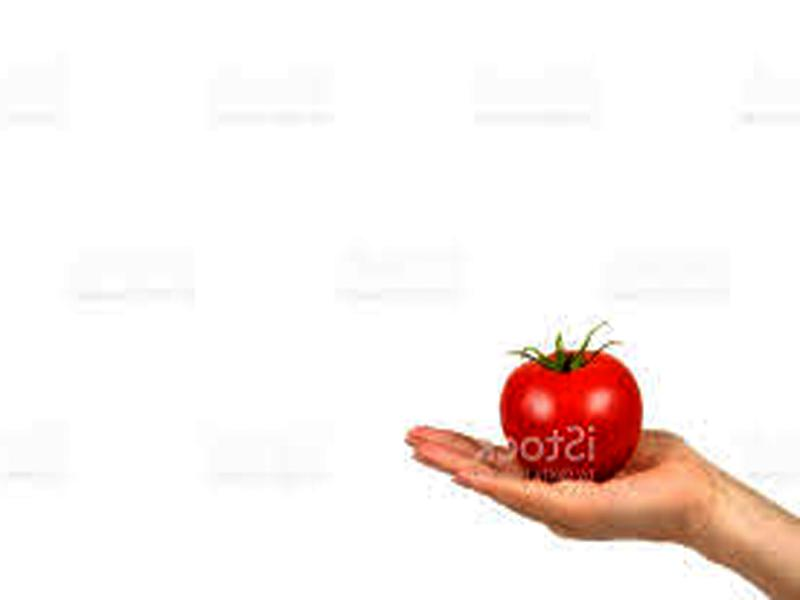Tomato: (502, 348, 642, 479)
